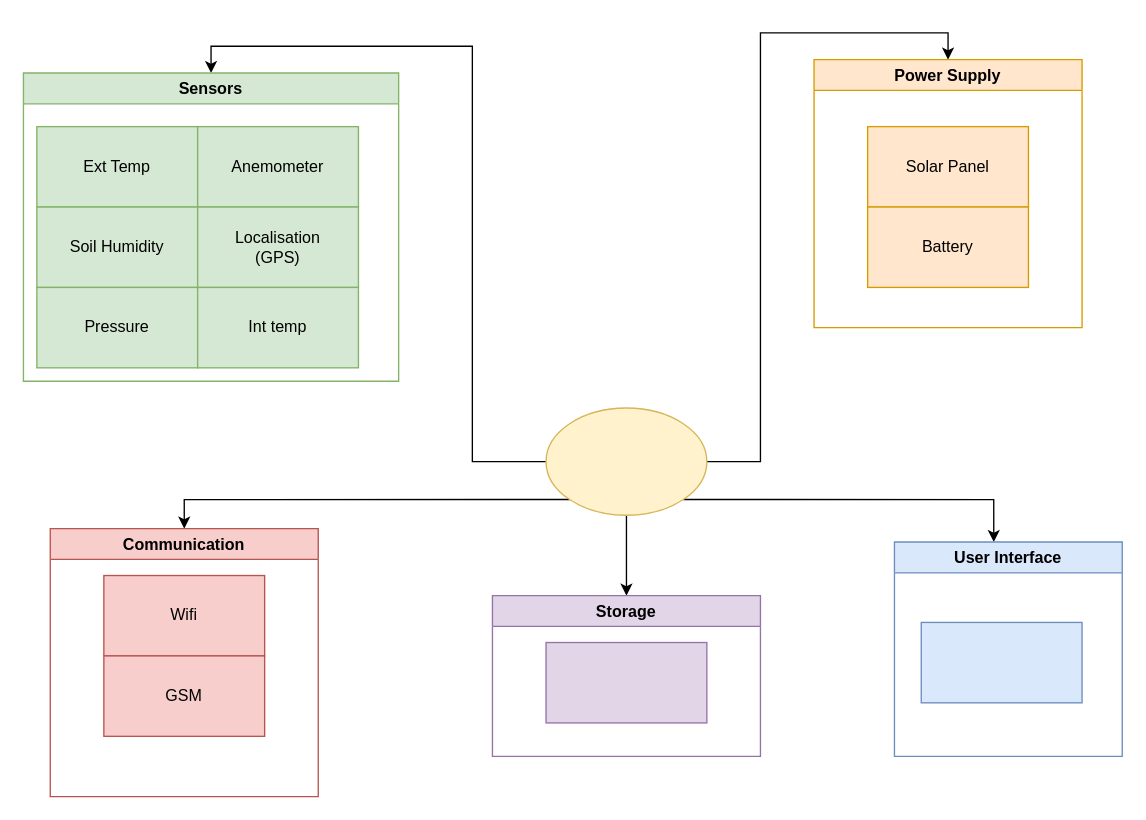
This 1146x820 diagram has some shape labels left out. Each missing label, with the centre of its shape:
"Display" goes at point (1001, 662).
"ESP32" goes at point (626, 461).
"SD" goes at point (626, 682).
